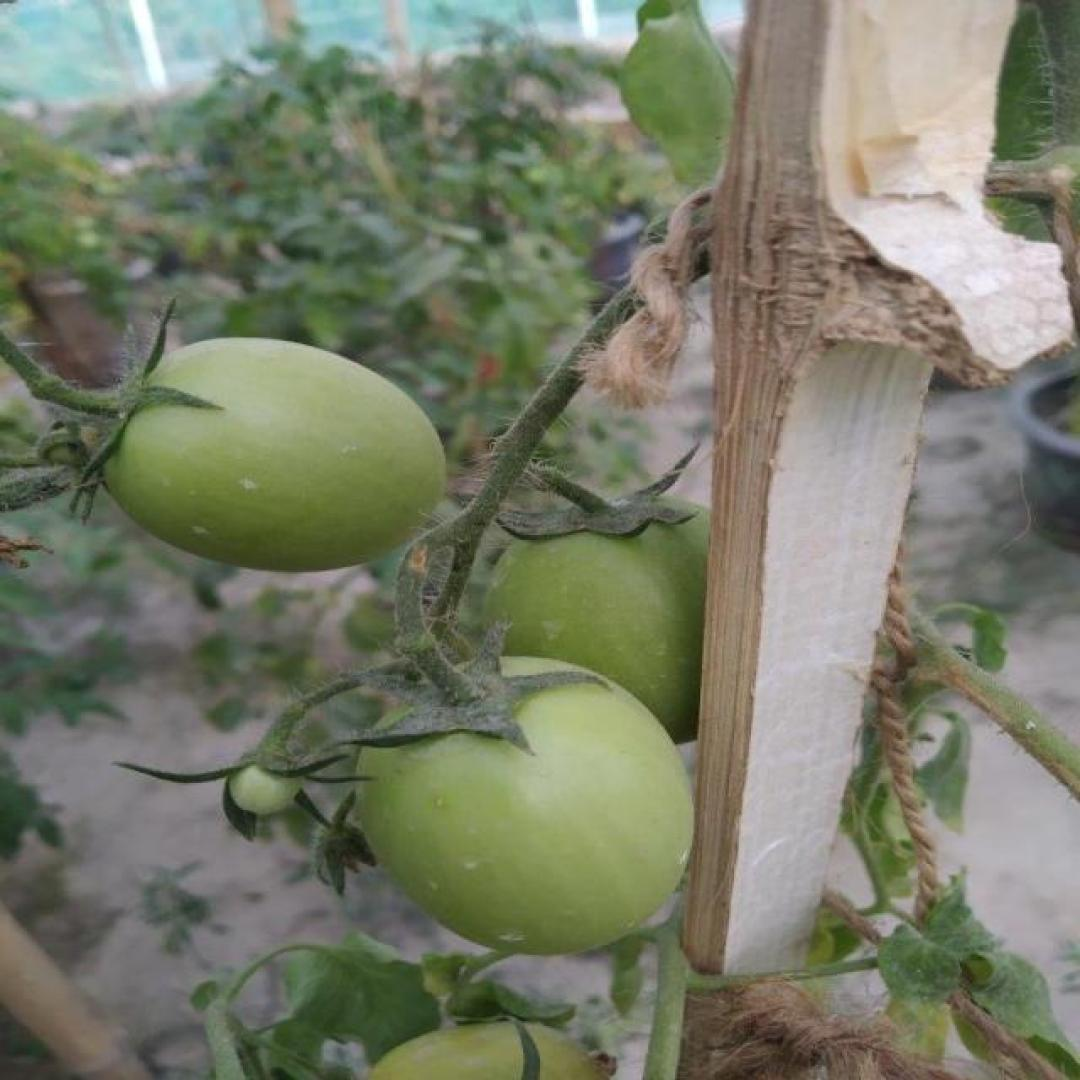mentah: (351, 655, 694, 955), (94, 338, 449, 570), (228, 752, 298, 814)
